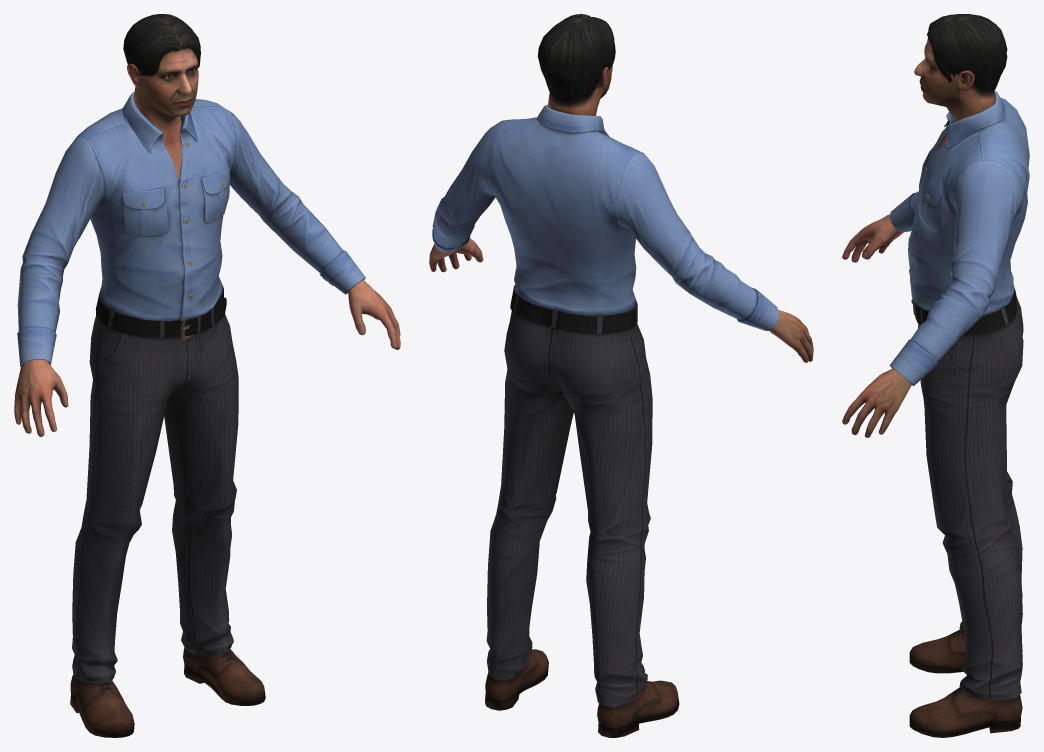
File: professorFBX.fbx
3 views of the same model, side by side, from view 1: azimuth 30°, elevation 25°; view 2: azimuth 150°, elevation 25°; view 3: azimuth 270°, elevation 25° (orthographic).
Parts seen in each view (by area): view 1: mesh_body, mesh_head; view 2: mesh_body, mesh_head; view 3: mesh_body, mesh_head.
Boxes of the visible parts, x1,y1,x2,y2 form: mesh_body: [14, 92, 400, 737]; mesh_head: [123, 14, 200, 179]; mesh_body: [429, 104, 813, 737]; mesh_head: [537, 14, 615, 115]; mesh_body: [842, 91, 1029, 737]; mesh_head: [914, 14, 1007, 147].
Bounding box in the file's own units: 120 × 208 × 51.99.
